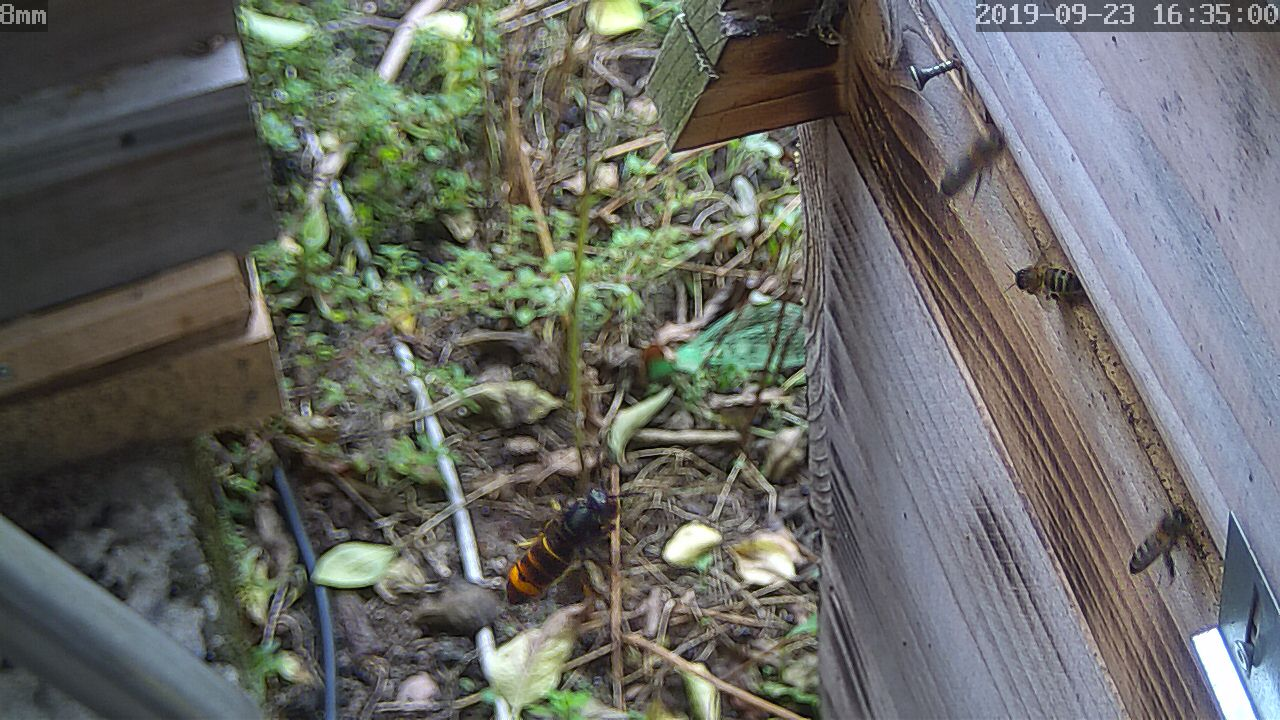bee: (1124, 491, 1195, 580), (936, 126, 1014, 204), (1010, 256, 1080, 312)
hornet: (497, 489, 617, 613)
